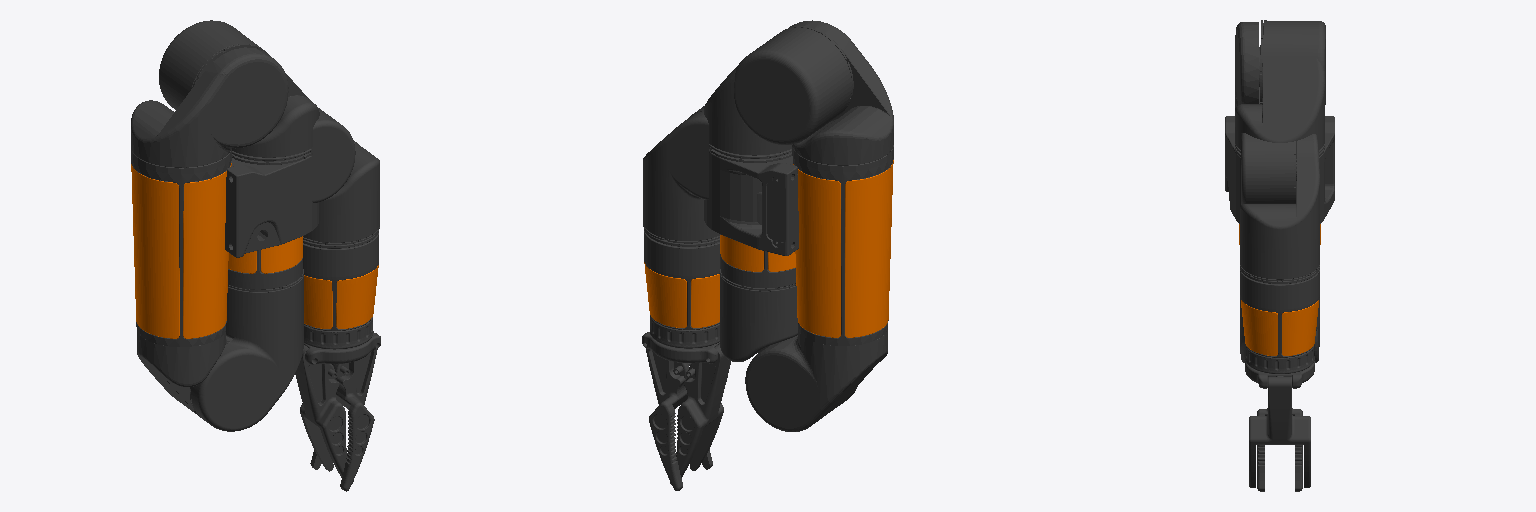
The robot description file, URDF, robot "rs2":
<!-- =================================================================================== -->
<!-- |    This document was autogenerated by xacro from test_rs2.urdf.xacro            | -->
<!-- |    EDITING THIS FILE BY HAND IS NOT RECOMMENDED                                 | -->
<!-- =================================================================================== -->
<robot name="rs2">
  <link name="base_link"/>
  <material name="black">
    <color rgba="0.3 0.3 0.3 1.0"/>
  </material>
  <joint name="rs2_joint" type="fixed">
    <origin rpy="0 0 0" xyz="0 0 0"/>
    <parent link="base_link"/>
    <child link="rs2_base_link"/>
  </joint>
  <link name="rs2_base_link">
    <visual>
      <geometry>
        <mesh filename="package://rs2_description/meshes/rs2/Base_jnt_def.stl"/>
      </geometry>
      <material name="black"/>
    </visual>
    <collision>
      <origin xyz="0.055 0 0.04156"/>
      <geometry>
        <box size="0.112 0.110 0.08312"/>
      </geometry>
    </collision>
  </link>
  <link name="rs2_1013_base">
    <visual>
      <geometry>
        <mesh filename="package://rs2_description/meshes/rs2/1013_base_def.stl"/>
      </geometry>
      <material name="black"/>
    </visual>
    <collision>
      <origin xyz="0 0 0.0316"/>
      <geometry>
        <cylinder length="0.0532" radius="0.046"/>
      </geometry>
    </collision>
    <collision>
      <origin rpy="1.5707 0 0" xyz="-0.046 0 0.0632"/>
      <geometry>
        <cylinder length="0.092" radius="0.046"/>
      </geometry>
    </collision>
  </link>
  <link name="rs2_1013_to_1015">
    <visual>
      <geometry>
        <mesh filename="package://rs2_description/meshes/rs2/1013_to_1015_def.stl"/>
      </geometry>
      <material name="black"/>
    </visual>
    <visual>
      <material name="orange">
        <color rgba="1.0 0.5 0.0 1"/>
      </material>
      <geometry>
        <mesh filename="package://rs2_description/meshes/rs2/1013_to_1015_def_pods.stl"/>
      </geometry>
    </visual>
    <collision>
      <origin rpy="0 0 0" xyz="-0.046 0 -0.145275"/>
      <geometry>
        <cylinder length="0.28055" radius="0.046"/>
      </geometry>
    </collision>
    <collision>
      <origin rpy="1.5707 0 0" xyz="-0.0052 0 -0.29055"/>
      <geometry>
        <cylinder length="0.092" radius="0.041"/>
      </geometry>
    </collision>
  </link>
  <link name="rs2_1015_Elbow">
    <visual>
      <geometry>
        <mesh filename="package://rs2_description/meshes/rs2/1015_Elbow_assem_def.stl"/>
      </geometry>
      <material name="black"/>
    </visual>
    <collision>
      <origin rpy="0 0 0" xyz="0.0402 0 0.048255"/>
      <geometry>
        <cylinder length="0.08645" radius="0.041"/>
      </geometry>
    </collision>
  </link>
  <link name="rs2_1015_to_wrist">
    <visual>
      <geometry>
        <mesh filename="package://rs2_description/meshes/rs2/1015_to_wrist_assem_def.stl"/>
      </geometry>
      <material name="black"/>
    </visual>
    <visual>
      <geometry>
        <mesh filename="package://rs2_description/meshes/rs2/1015_to_wrist_assem_def_pods.stl"/>
      </geometry>
      <material name="orange">
        <color rgba="1.0 0.5 0.0 1"/>
      </material>
    </visual>
    <collision>
      <origin rpy="0 0 0" xyz="0.00 0 0.05712"/>
      <geometry>
        <cylinder length="0.10424" radius="0.041"/>
      </geometry>
    </collision>
    <collision>
      <origin rpy="1.5707 0 0" xyz="0.0402 0 0.11424"/>
      <geometry>
        <cylinder length="0.092" radius="0.041"/>
      </geometry>
    </collision>
  </link>
  <link name="rs2_wrist">
    <visual>
      <geometry>
        <mesh filename="package://rs2_description/meshes/rs2/wrist_assem_def.stl"/>
      </geometry>
      <material name="black"/>
    </visual>
    <collision>
      <origin rpy="0 0 0" xyz="0.0402 0 -0.044315"/>
      <geometry>
        <cylinder length="0.07863" radius="0.041"/>
      </geometry>
    </collision>
  </link>
  <link name="rs2_gripper">
    <visual>
      <geometry>
        <mesh filename="package://rs2_description/meshes/rs2/Gripper_def.stl"/>
      </geometry>
      <material name="black"/>
    </visual>
    <visual>
      <geometry>
        <mesh filename="package://rs2_description/meshes/rs2/Gripper_def_pods.stl"/>
      </geometry>
      <material name="orange">
        <color rgba="1.0 0.5 0.0 1"/>
      </material>
    </visual>
    <collision>
      <origin rpy="0 0 0" xyz="0.0 0 -0.059"/>
      <geometry>
        <cylinder length="0.108" radius="0.041"/>
      </geometry>
    </collision>
    <collision>
      <origin rpy="0 0 0" xyz="0.0 0 -0.188"/>
      <geometry>
        <box size="0.1 0.09 0.14"/>
      </geometry>
    </collision>
    <collision>
      <origin rpy="0 0.40 0" xyz="-0.033 0 -0.188"/>
      <geometry>
        <box size="0.05 0.09 0.14"/>
      </geometry>
    </collision>
    <collision>
      <origin rpy="0 -0.40 0" xyz="0.033 0 -0.188"/>
      <geometry>
        <box size="0.05 0.09 0.14"/>
      </geometry>
    </collision>
  </link>
  <link name="rs2_RS2_255_1">
    <visual>
      <geometry>
        <mesh filename="package://rs2_description/meshes/rs2/RS2-255-def.stl"/>
      </geometry>
      <material name="black"/>
    </visual>
  </link>
  <link name="rs2_RS2_255_2">
    <visual>
      <geometry>
        <mesh filename="package://rs2_description/meshes/rs2/RS2-255-def_jaw_inside.stl"/>
      </geometry>
      <material name="black"/>
    </visual>
  </link>
  <link name="rs2_push_rod"/>
  <joint name="rs2_push_rod_joint" type="prismatic">
    <origin rpy="0 0 0" xyz="0 0 -0.118"/>
    <parent link="rs2_gripper"/>
    <child link="rs2_push_rod"/>
    <axis xyz="0 0 1"/>
    <limit effort="10" lower="0" upper="0.035" velocity="10"/>
  </joint>
  <joint name="rs2_gripper_joint_1" type="revolute">
    <parent link="rs2_gripper"/>
    <child link="rs2_RS2_255_2"/>
    <origin rpy="0 0 0" xyz="-0.033 0 -0.118"/>
    <axis xyz="0 1 0"/>
    <limit effort="9.0" lower="0.0" upper="6.2" velocity="0.5"/>
  </joint>
  <joint name="rs2_gripper_joint_2" type="revolute">
    <parent link="rs2_gripper"/>
    <child link="rs2_RS2_255_1"/>
    <origin rpy="0 0 0" xyz="0.033 0 -0.118"/>
    <axis xyz="0 -1 0"/>
    <limit effort="9.0" lower="0.0" upper="6.2" velocity="0.5"/>
    <mimic joint="rs2_gripper_joint_1" multiplier="1" offset="0"/>
  </joint>
  <joint name="rs2_joint_b" type="revolute">
    <parent link="rs2_wrist"/>
    <child link="rs2_gripper"/>
    <origin rpy="0 0 0" xyz="0.040 0 -0.08863"/>
    <axis xyz="0 0 1"/>
    <limit effort="9.0" lower="0.0" upper="6.2" velocity="0.5"/>
  </joint>
  <joint name="rs2_joint_c" type="revolute">
    <parent link="rs2_1015_to_wrist"/>
    <child link="rs2_wrist"/>
    <origin rpy="0 0 0" xyz="0.040 0 0.11424"/>
    <axis xyz="0 -1 0"/>
    <limit effort="9.0" lower="0.0" upper="6.2" velocity="0.5"/>
  </joint>
  <joint name="rs2_joint_d" type="revolute">
    <parent link="rs2_1015_Elbow"/>
    <child link="rs2_1015_to_wrist"/>
    <origin rpy="0 0 0" xyz="0.040 0 0.09645"/>
    <axis xyz="0 0 1"/>
    <limit effort="9.0" lower="0.0" upper="6.2" velocity="0.5"/>
  </joint>
  <joint name="rs2_joint_e" type="revolute">
    <parent link="rs2_1013_to_1015"/>
    <child link="rs2_1015_Elbow"/>
    <origin rpy="0 0 0" xyz="-0.0052 0 -0.29055"/>
    <axis xyz="0 1 0"/>
    <limit effort="9.0" lower="0.0" upper="6.2" velocity="0.5"/>
  </joint>
  <joint name="rs2_joint_f" type="revolute">
    <parent link="rs2_1013_base"/>
    <child link="rs2_1013_to_1015"/>
    <origin rpy="0 0 0" xyz="-0.046 0 0.0632"/>
    <axis xyz="0 1 0"/>
    <limit effort="9.0" lower="0.0" upper="6.2" velocity="0.5"/>
  </joint>
  <joint name="rs2_joint_g" type="revolute">
    <parent link="rs2_base_link"/>
    <child link="rs2_1013_base"/>
    <origin rpy="0 0 0" xyz="0.0665 0 0.08312"/>
    <axis xyz="0 0 1"/>
    <limit effort="9.0" lower="0.0" upper="6.2" velocity="0.5"/>
  </joint>
</robot>

--- What the picture shows (computed from the rendered views, not written in the file) ---
3 views of the same robot in one strip: view 1: azimuth 30°, elevation 25°; view 2: azimuth 150°, elevation 25°; view 3: azimuth 270°, elevation 25° (orthographic).
Model rs2 with 11 links and 10 joints (8 revolute, 1 prismatic, 1 fixed), rooted at base_link, posed all joints at 0.
Visible links, largest first — view 1: rs2_1013_to_1015, rs2_1015_Elbow, rs2_gripper, rs2_base_link, rs2_1013_base, rs2_1015_to_wrist, rs2_wrist, rs2_RS2_255_2, rs2_RS2_255_1; view 2: rs2_1013_to_1015, rs2_1013_base, rs2_gripper, rs2_base_link, rs2_wrist, rs2_1015_Elbow, rs2_RS2_255_2, rs2_RS2_255_1, rs2_1015_to_wrist; view 3: rs2_1013_base, rs2_gripper, rs2_wrist, rs2_1015_to_wrist, rs2_RS2_255_1, rs2_base_link, rs2_1013_to_1015, rs2_RS2_255_2.
Boxes of the visible links, x1,y1,x2,y2 form: rs2_1013_to_1015: (131,47,288,417); rs2_1015_Elbow: (191,269,303,431); rs2_gripper: (303,230,380,364); rs2_base_link: (225,153,318,257); rs2_1013_base: (159,20,319,161); rs2_1015_to_wrist: (228,108,355,289); rs2_wrist: (303,141,379,244); rs2_RS2_255_2: (295,345,353,483); rs2_RS2_255_1: (310,349,377,491); rs2_1013_to_1015: (745,20,893,431); rs2_1013_base: (704,26,853,158); rs2_gripper: (642,229,719,363); rs2_base_link: (704,149,798,255); rs2_wrist: (643,111,719,243); rs2_1015_Elbow: (720,269,857,403); rs2_RS2_255_2: (670,344,730,484); rs2_RS2_255_1: (646,348,712,490); rs2_1015_to_wrist: (690,106,795,288); rs2_1013_base: (1235,20,1325,161); rs2_gripper: (1240,267,1319,388); rs2_wrist: (1240,134,1319,281); rs2_1015_to_wrist: (1241,133,1295,204); rs2_RS2_255_1: (1249,377,1310,487); rs2_base_link: (1225,116,1334,223); rs2_1013_to_1015: (1235,22,1320,362); rs2_RS2_255_2: (1257,376,1302,491).
Bounding box of the posed robot: 0.2484 × 0.1113 × 0.4684 m (x, y, z).
Meshes: 12 distinct files referenced, 12 mesh visuals loaded (12 binary STL).